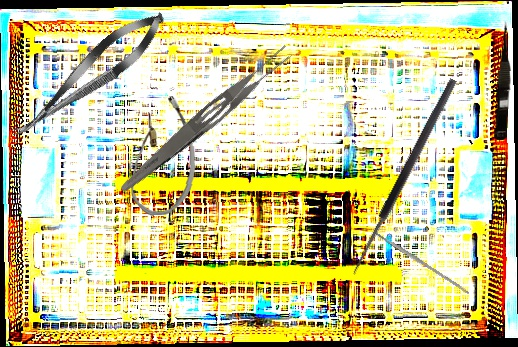Cannula: (124, 95, 199, 217)
Dressing Forceps: (116, 40, 297, 202)
Hook Surgical: (349, 77, 468, 282)
Micro Scissor: (2, 1, 175, 151), (493, 20, 516, 141)
Scalpel Handle: (373, 229, 471, 296)
